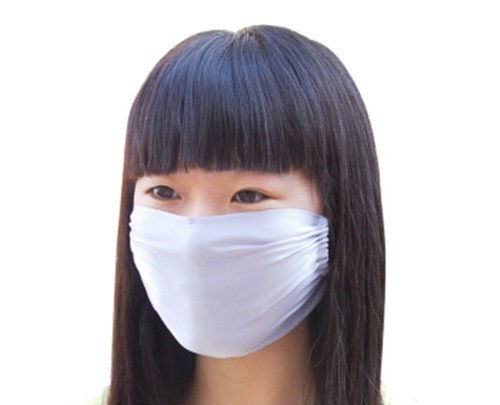face_mask: (129, 117, 322, 359)
